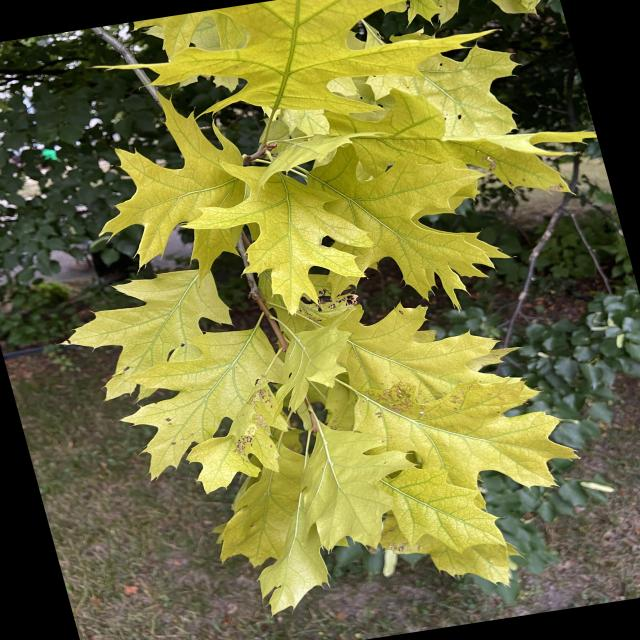Chlorosis: (85, 10, 610, 640)
